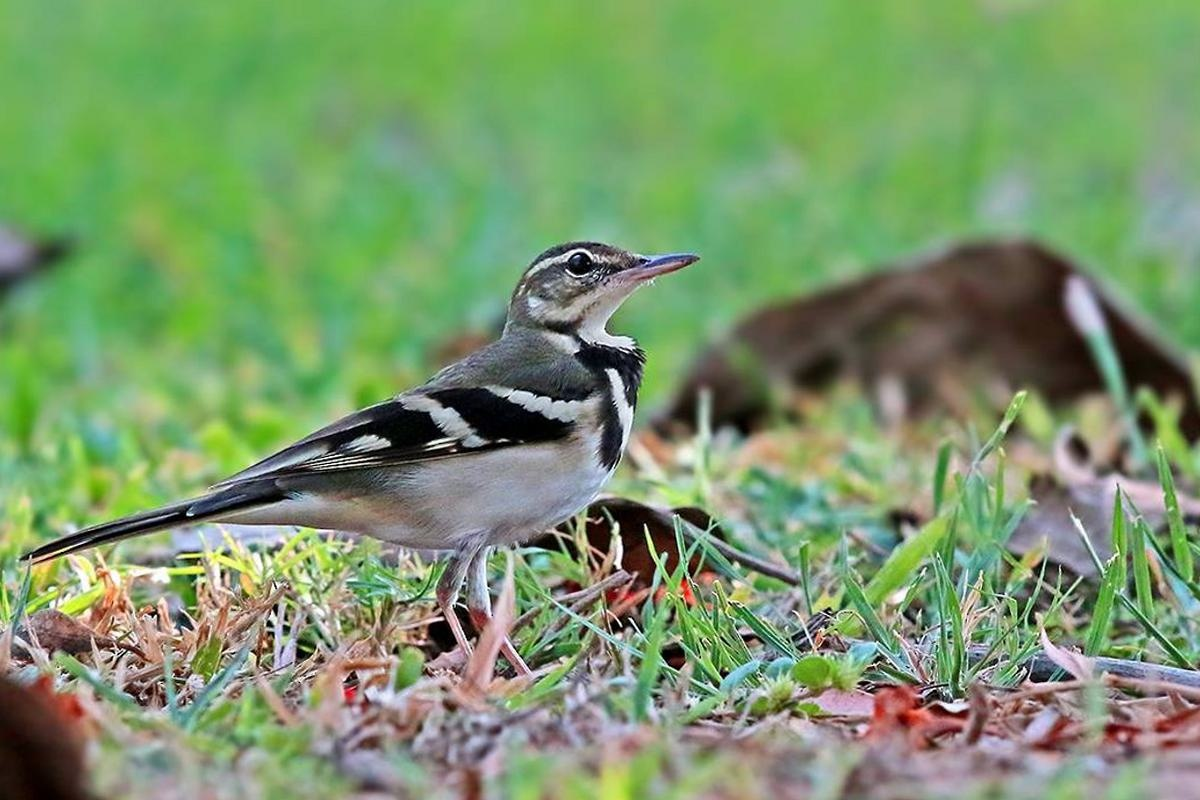wagtail: (73, 218, 747, 632)
